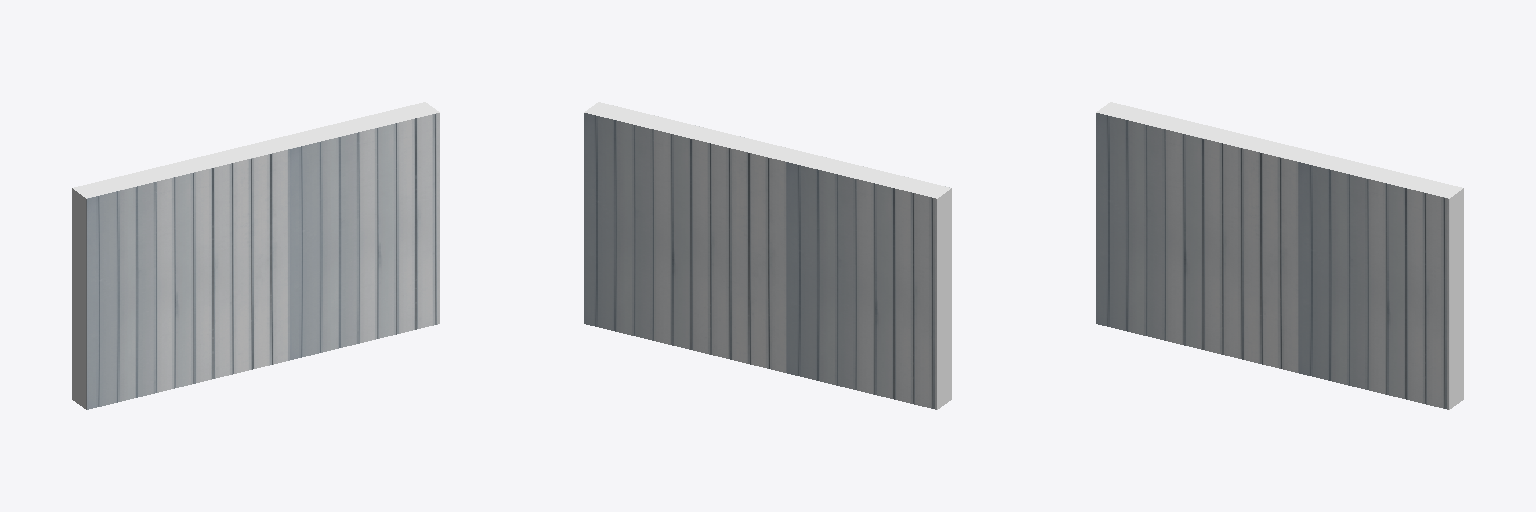
3 renders of one model, left to right at view 1: azimuth 30°, elevation 25°; view 2: azimuth 150°, elevation 25°; view 3: azimuth 330°, elevation 25°, orthographic.
Visible parts, largest first — view 1: pCube122; view 2: pCube122; view 3: pCube122.
Part boxes in pixels (x1,y1,x2,y2): pCube122: (72,102,439,409); pCube122: (584,102,951,409); pCube122: (1096,102,1463,409).
Bounding box in the file's own units: 1.75 × 1 × 0.125.
1 materials, 1 textured.